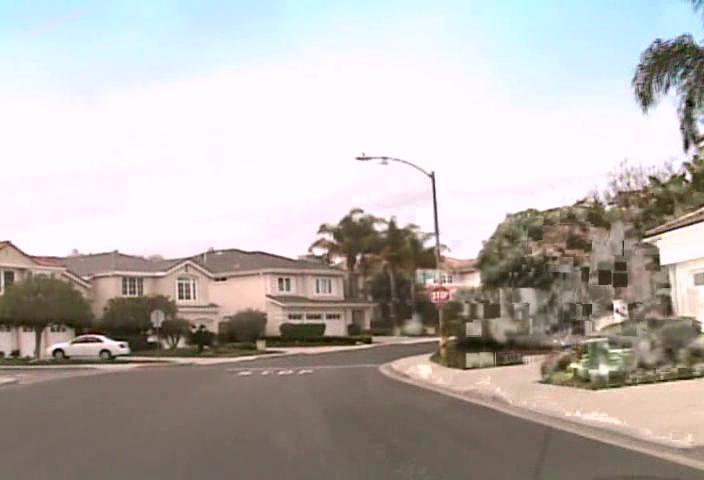stop: (429, 285, 450, 305)
